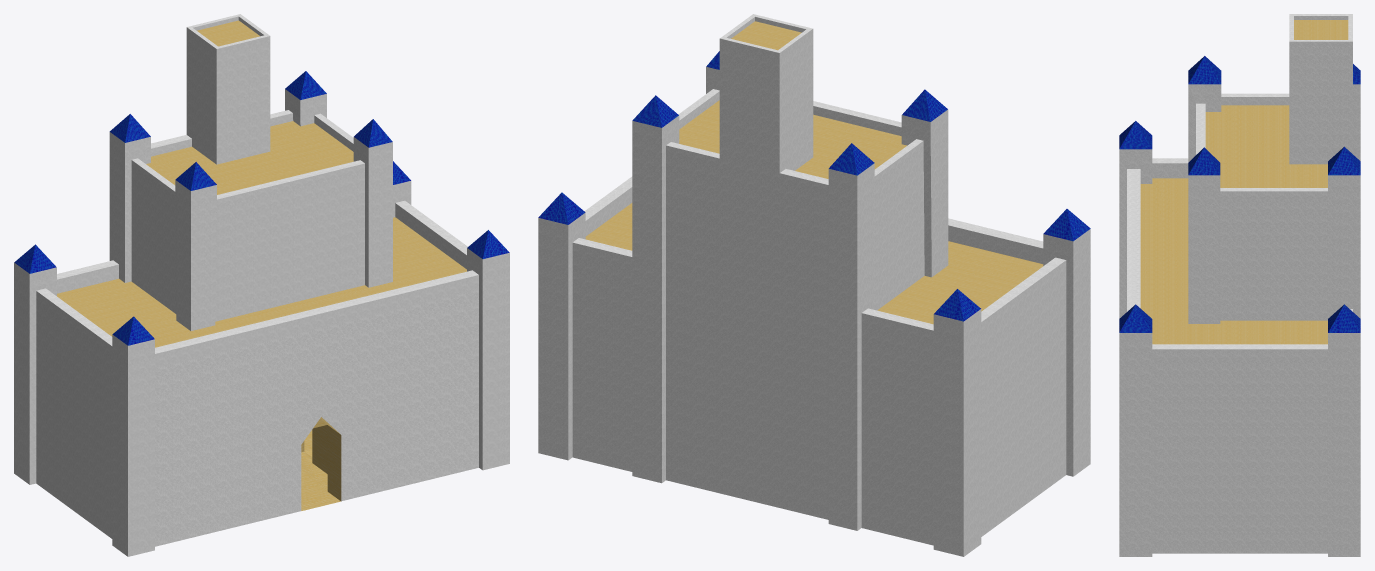
3 views of the same model, side by side, from view 1: azimuth 30°, elevation 25°; view 2: azimuth 150°, elevation 25°; view 3: azimuth 270°, elevation 25° (orthographic). The views are drawn at different scales.
Parts seen in each view (by area): view 1: Exterior, Interior; view 2: Exterior; view 3: Exterior.
Boxes of the visible parts, box(x1,y1,x2,y2) form: Exterior: box(14, 14, 509, 556); Interior: box(301, 417, 341, 510); Exterior: box(538, 14, 1090, 556); Exterior: box(1119, 14, 1360, 556).
Size of the model in its own units: 3224 by 3294 by 1666.
